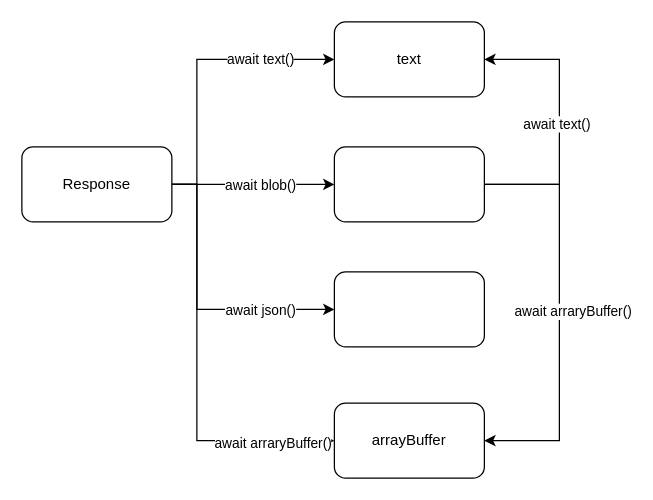
This 653x500 diagram has some shape labels left out. The shapes that lost their labels are listed below. From the top down, each one's centre as x and y in pixels, then its label:
the point at 408,184: blob
the point at 408,309: json
